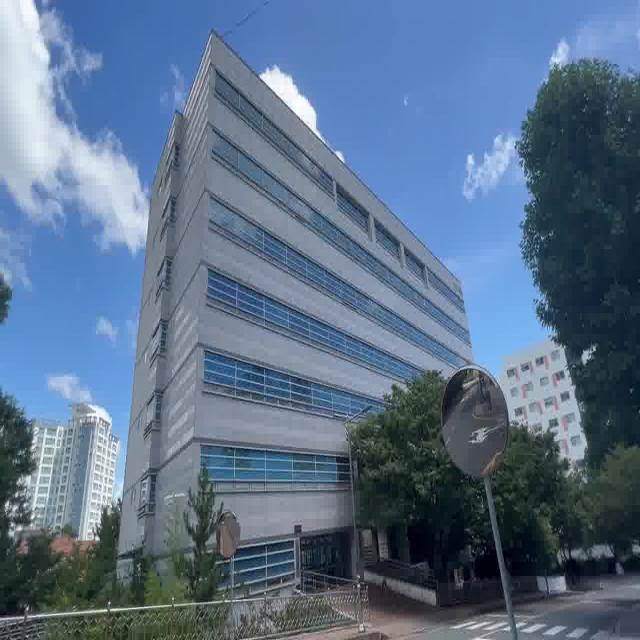building: (141, 57, 355, 543)
